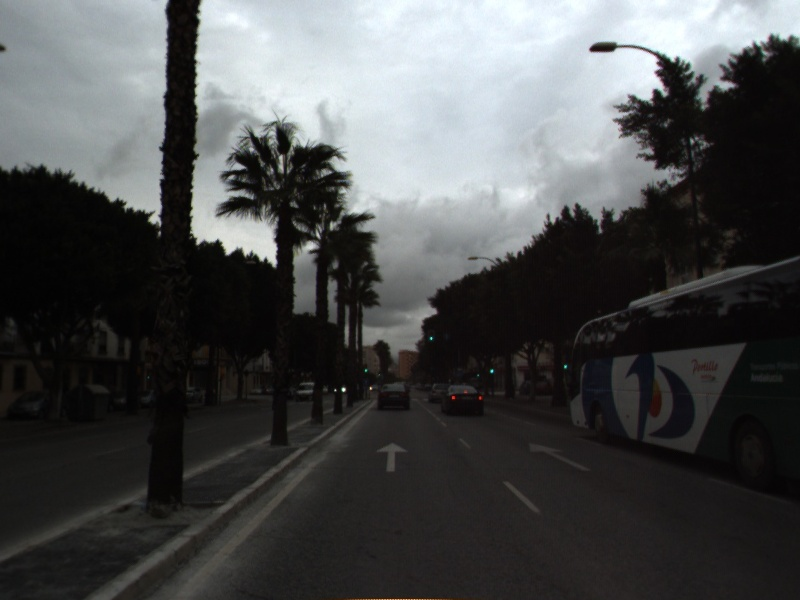STRAIGHT: (527, 441, 593, 473), (374, 440, 411, 474)
